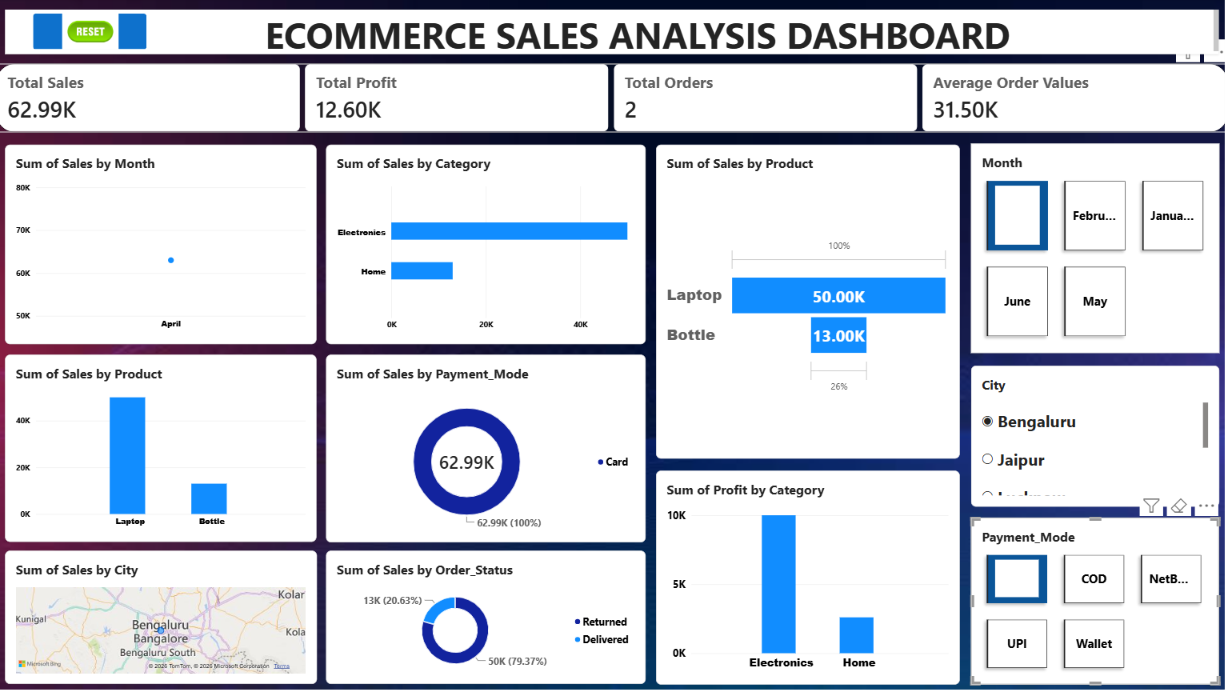

The dashboard page shown, as its layout file describes it:
{"tool":"powerbi","page":{"name":"Page 1","canvas":[1920,1080],"ordinal":0},"visuals":[{"type":"cardVisual","fields":{"Data":["Dax measures.Total Sales","Dax measures.Total Profit","Dax measures.Total Orders","Dax measures.Average Order Values"]},"box":[0,102.9,1920.4,107],"z":0},{"type":"textbox","box":[14.4,18.5,1891.6,70],"z":1000},{"type":"lineChart","title":"Sum of Sales by Month ","fields":{"Category":["public order.Month"],"Y":["Sum(public order.Sales)"]},"box":[14.4,228.5,485.8,310.8],"z":2000},{"type":"barChart","fields":{"Category":["public order.Category"],"Y":["Sum(public order.Sales)"]},"box":[514.6,228.5,498.1,310.8],"z":3000},{"type":"columnChart","fields":{"Category":["public order.Product"],"Y":["Sum(public order.Sales)"]},"box":[14.4,555.7,485.8,292.3],"z":4000},{"type":"map","fields":{"Category":["public order.City"],"Size":["Sum(public order.Sales)"]},"box":[14.4,862.4,486,208],"z":5000},{"type":"donutChart","fields":{"Category":["public order.Payment_Mode"],"Y":["Sum(public order.Sales)"]},"box":[514.6,555.7,498.1,293],"z":6000},{"type":"pieChart","fields":{"Category":["public order.Order_Status"],"Y":["Sum(public order.Sales)"]},"box":[514.6,862.4,498.1,207.9],"z":7000},{"type":"funnel","fields":{"Category":["public order.Product"],"Y":["Sum(public order.Sales)"]},"box":[1029.2,228.5,473.4,489.9],"z":8000},{"type":"columnChart","fields":{"Category":["public order.Category"],"Y":["Sum(public order.Profit)"]},"box":[1029.2,736.9,473.4,333.4],"z":9000},{"type":"advancedSlicerVisual","fields":{"Values":["public order.Month"]},"box":[1520.3,227.7,387,326.3],"z":10000},{"type":"listSlicer","fields":{"Values":["public order.City"]},"box":[1520.3,574.2,387,220.1],"z":11000},{"type":"advancedSlicerVisual","fields":{"Values":["public order.Payment_Mode"]},"box":[1520,811.1,386.1,259.5],"z":12000},{"type":"actionButton","box":[58.2,25.3,177.1,55.7],"z":13000},{"type":"image","box":[3.1,24.9,288.4,56.1],"z":13001}]}

Visuals, with their boxes in screenshot pixels (x1, y1, x2, y2), scaled from the page's 1920x1080 canvas onto the 1225x690 screenshot:
cardVisual - Dax measures.Total Sales x Dax measures.Total Profit: [left=0, top=66, right=1224, bottom=134]
textbox: [left=9, top=12, right=1216, bottom=57]
"Sum of Sales by Month " lineChart: [left=9, top=146, right=319, bottom=345]
barChart - public order.Category x Sum(public order.Sales): [left=328, top=146, right=646, bottom=345]
columnChart - public order.Product x Sum(public order.Sales): [left=9, top=355, right=319, bottom=542]
map - public order.City x Sum(public order.Sales): [left=9, top=551, right=319, bottom=684]
donutChart - public order.Payment_Mode x Sum(public order.Sales): [left=328, top=355, right=646, bottom=542]
pieChart - public order.Order_Status x Sum(public order.Sales): [left=328, top=551, right=646, bottom=684]
funnel - public order.Product x Sum(public order.Sales): [left=657, top=146, right=959, bottom=459]
columnChart - public order.Category x Sum(public order.Profit): [left=657, top=471, right=959, bottom=684]
advancedSlicerVisual - public order.Month: [left=970, top=145, right=1217, bottom=354]
listSlicer - public order.City: [left=970, top=367, right=1217, bottom=507]
advancedSlicerVisual - public order.Payment_Mode: [left=970, top=518, right=1216, bottom=684]
actionButton: [left=37, top=16, right=150, bottom=52]
image: [left=2, top=16, right=186, bottom=52]
